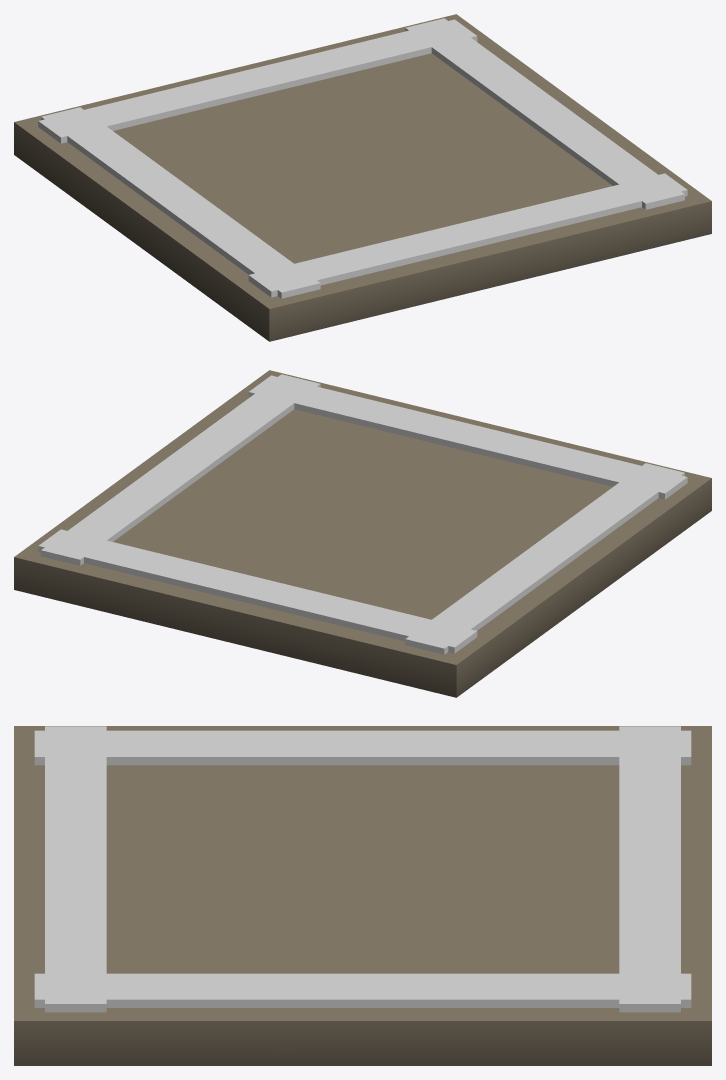
The model's file is m_coast_6fe4ac1c.glb.
3 renders of one model, top to bottom at view 1: azimuth 30°, elevation 25°; view 2: azimuth 150°, elevation 25°; view 3: azimuth 270°, elevation 25°, orthographic. The views are drawn at different scales.
Parts seen in each view (by area): view 1: mesh; view 2: mesh; view 3: mesh.
Part boxes in pixels (<box>): mesh: <box>14,14,711,341</box>; mesh: <box>14,370,711,697</box>; mesh: <box>14,726,711,1065</box>.
Size of the model in its own units: 33.91 by 2.85 by 33.91.
